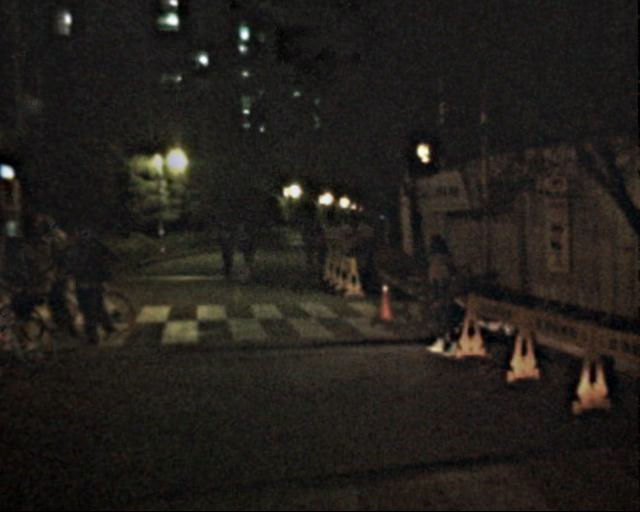person: (415, 235, 465, 356), (72, 224, 120, 341), (5, 230, 53, 347), (42, 215, 89, 329), (210, 214, 237, 280), (229, 219, 255, 283), (305, 222, 328, 277), (294, 223, 315, 275)
